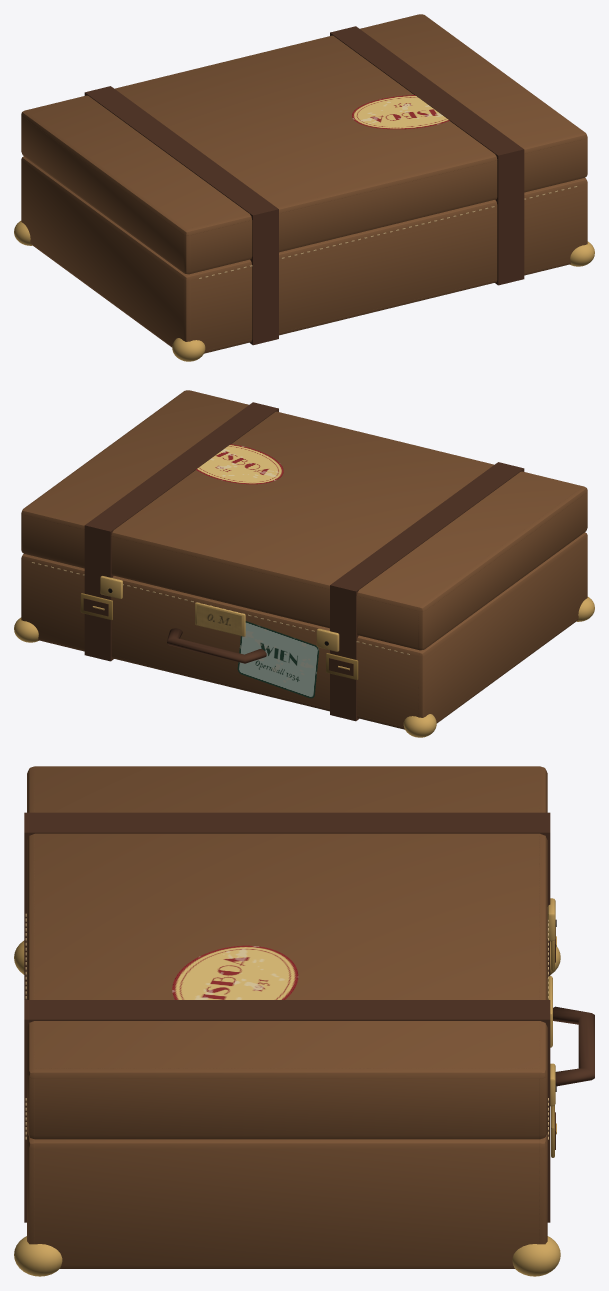
Rendered from suitcase.fbx.
3 renders of one model, top to bottom at view 1: azimuth 30°, elevation 25°; view 2: azimuth 150°, elevation 25°; view 3: azimuth 270°, elevation 25°, orthographic. The views are drawn at different scales.
Parts seen in each view (by area): view 1: Lid, suitcase; view 2: Lid, suitcase; view 3: Lid, suitcase.
Boxes of the visible parts, left/top/right/bottom form: Lid: left=21, top=14, right=587, bottom=274; suitcase: left=14, top=156, right=594, bottom=361; Lid: left=21, top=390, right=587, bottom=650; suitcase: left=14, top=532, right=594, bottom=737; Lid: left=24, top=766, right=550, bottom=1139; suitcase: left=14, top=898, right=594, bottom=1276.
Bounding box in the file's own units: 0.58 × 0.177 × 0.4463.
